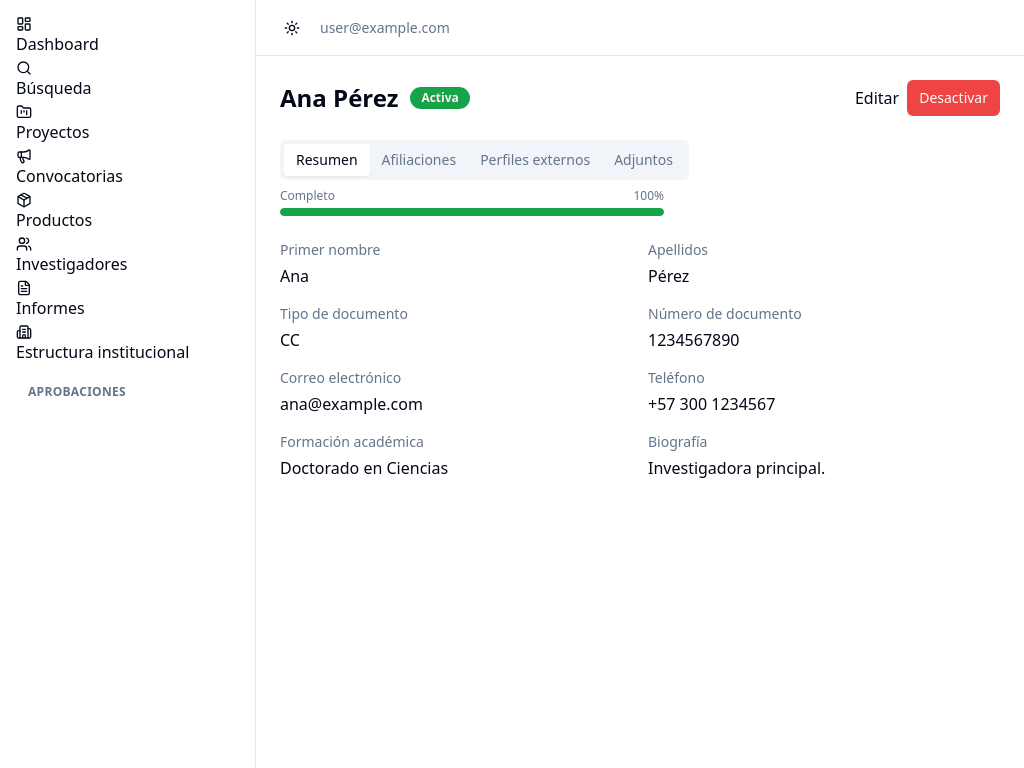
Test case: ResearcherDetailPage › wires the nested managers into the Affiliations and Profiles tabs
Expected: the heading "Ana Pérez" is shown, [280,82,398,114]
Click the tab "Afiliaciones" at (419,160), box [370,144,468,176]
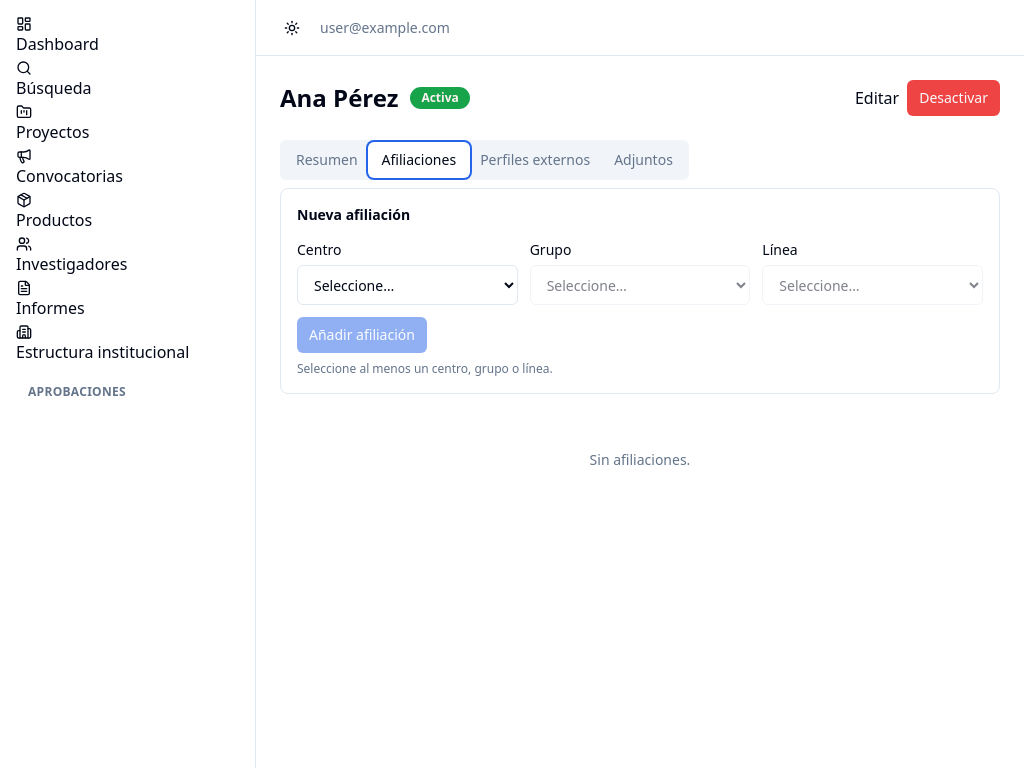
Now the heading "Nueva afiliación" is shown, box [297,205,410,224]
Click the tab "Perfiles externos" at (535,160), box [468,144,602,176]
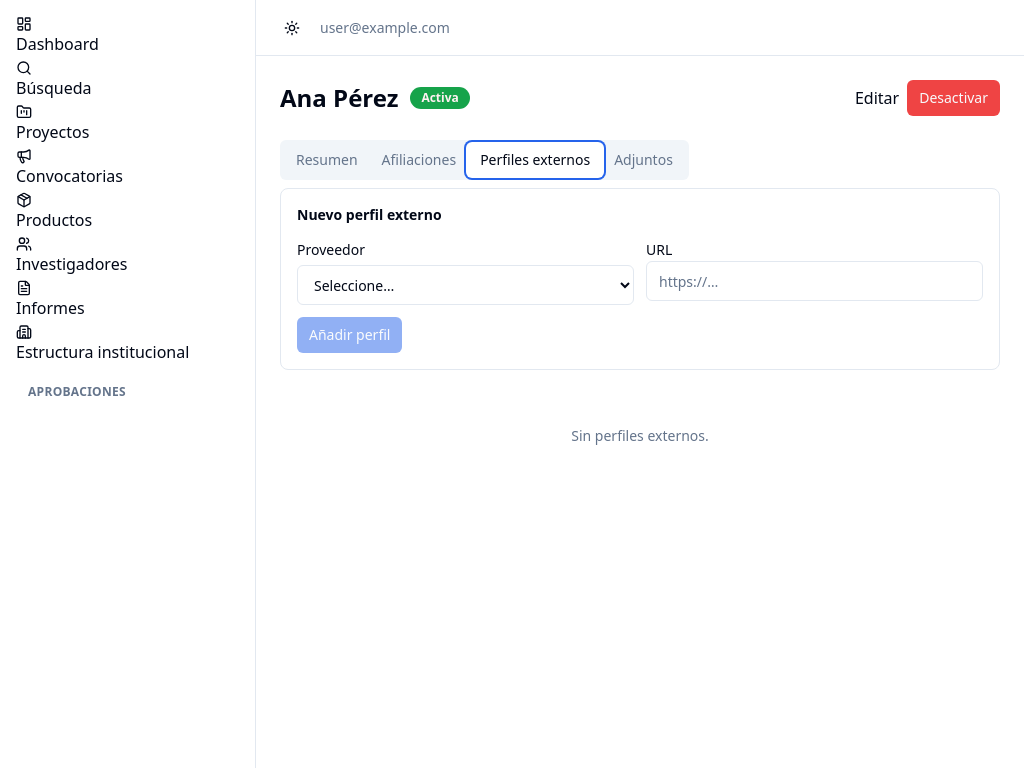
Now the heading "Nuevo perfil externo" is shown, box [297,205,442,224]
Click the tab "Adjuntos" at (643,160), box [602,144,685,176]
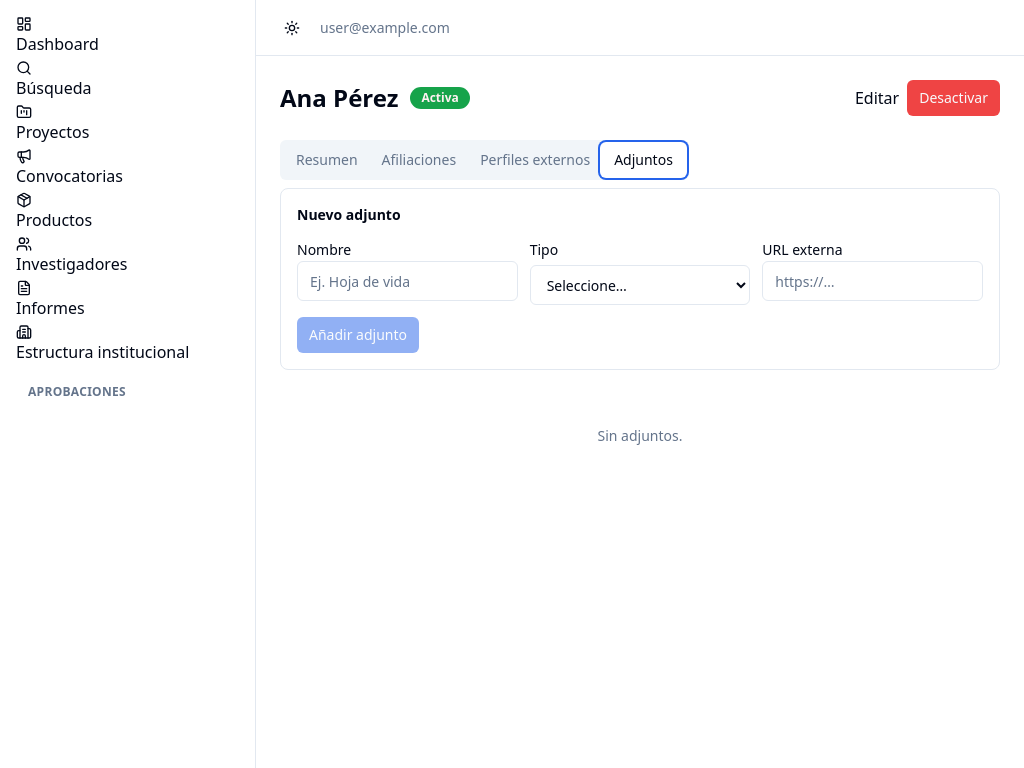
Now the heading "Nuevo adjunto" is shown, box [297,205,401,224]
